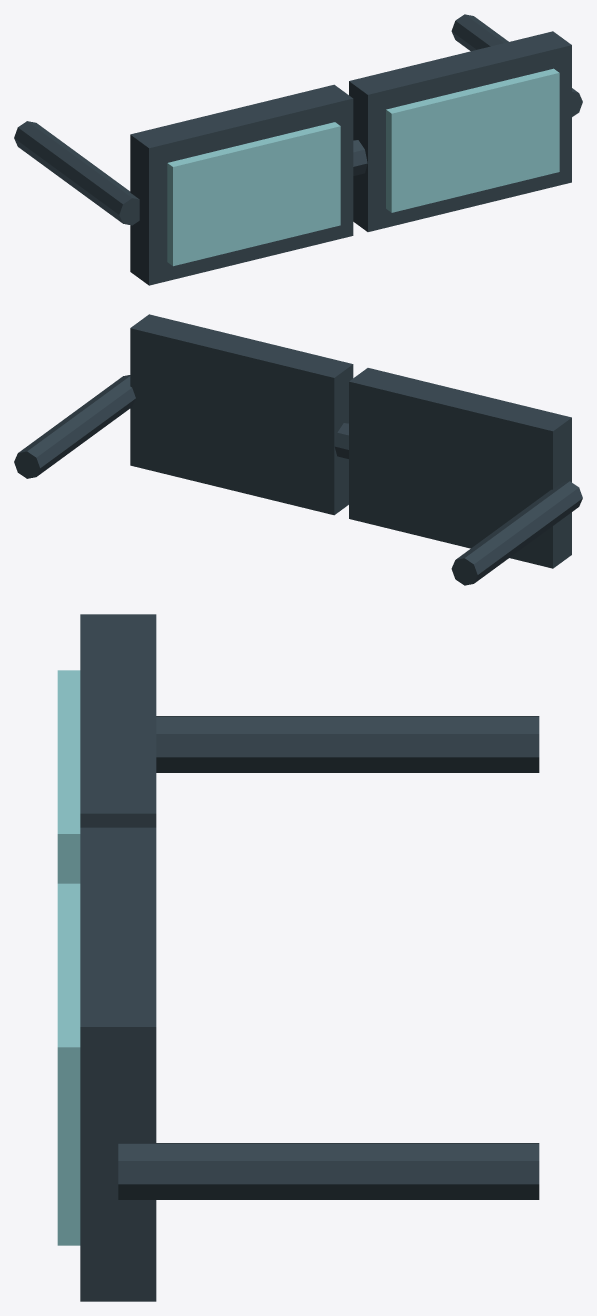
File: glasses_sun.glb
The picture shows the model from 3 angles, top to bottom: view 1: azimuth 30°, elevation 25°; view 2: azimuth 150°, elevation 25°; view 3: azimuth 270°, elevation 25°; orthographic projection. The views are drawn at different scales.
Visible parts, largest first — view 1: lens, lens.001, frame, frame.001, arm, arm.001, bridge; view 2: frame.001, frame, arm, arm.001, bridge; view 3: frame.001, arm.001, arm, frame, lens.001, lens.
Part boxes in pixels (x1,y1,x2,y2): lens: (167, 122, 340, 266); lens.001: (386, 68, 559, 212); frame: (130, 84, 353, 285); frame.001: (349, 31, 571, 231); arm: (14, 121, 139, 225); arm.001: (451, 14, 582, 116); bridge: (353, 140, 367, 175); frame.001: (130, 314, 353, 515); frame: (349, 368, 571, 568); arm: (451, 481, 582, 585); arm.001: (14, 375, 135, 478); bridge: (334, 423, 348, 458); frame.001: (80, 827, 156, 1301); arm.001: (118, 1143, 539, 1199); arm: (156, 716, 539, 772); frame: (80, 614, 156, 827); lens.001: (57, 883, 80, 1245); lens: (57, 670, 80, 883).
Bounding box in the file's own units: 0.636 × 0.18 × 0.286.
